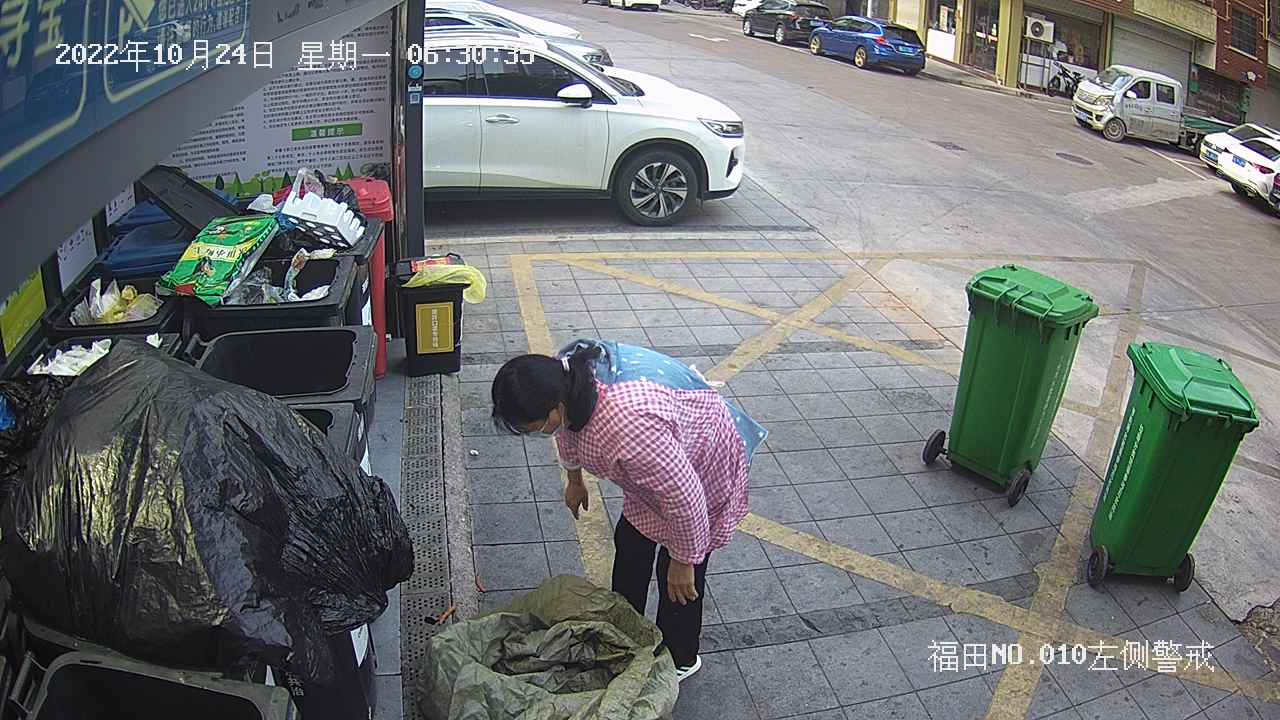garbage-bag: (416, 567, 688, 720)
person: (485, 332, 780, 686)
